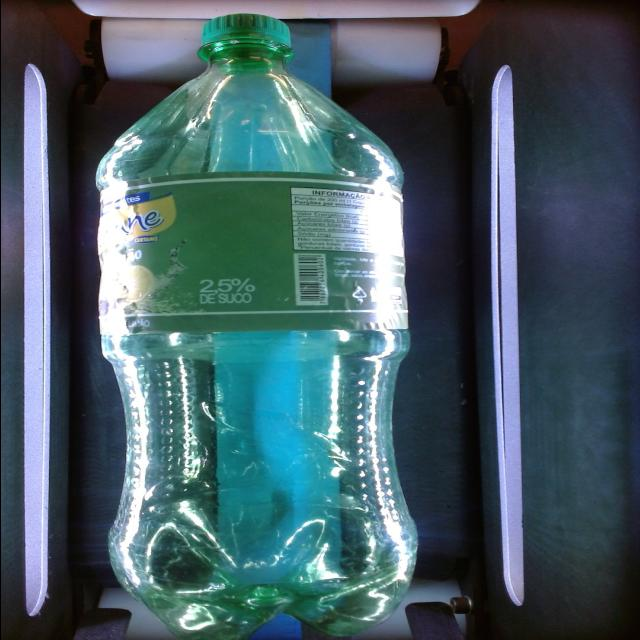bottle: (96, 15, 415, 640)
